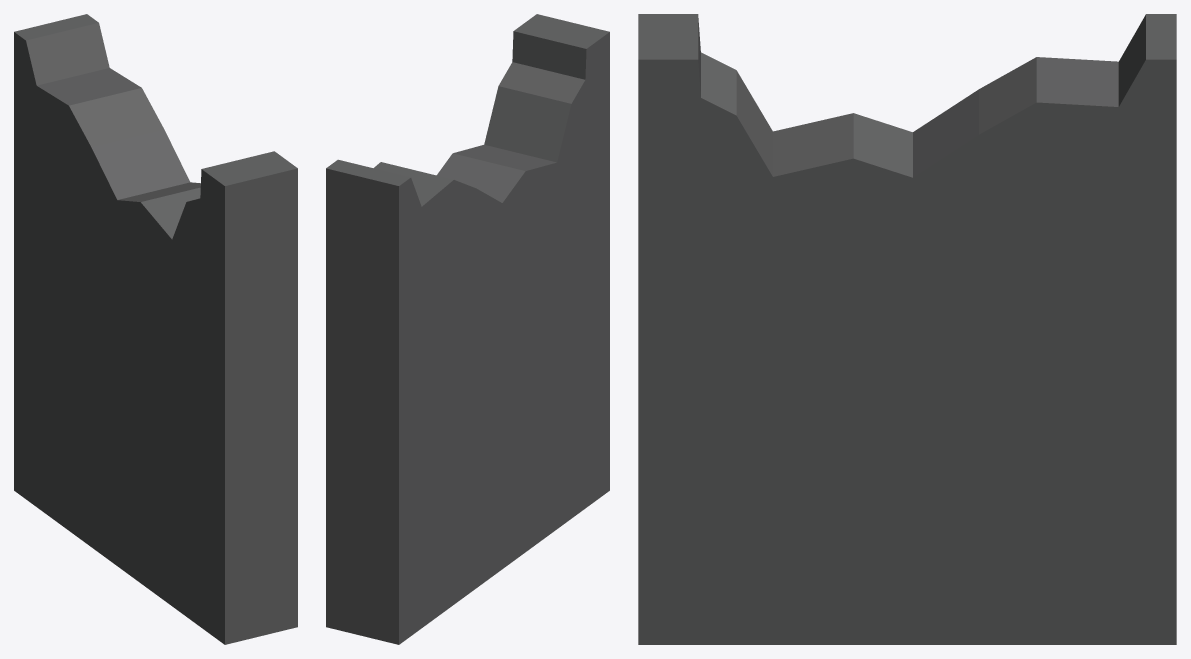
The model's file is Wall_B_2_1.obj.
The picture shows the model from 3 angles, left to right: view 1: azimuth 30°, elevation 25°; view 2: azimuth 150°, elevation 25°; view 3: azimuth 270°, elevation 25°; orthographic projection. The views are drawn at different scales.
Visible parts, largest first — view 1: Wall_B_2_1; view 2: Wall_B_2_1; view 3: Wall_B_2_1.
Part boxes in pixels (x1,y1,x2,y2): Wall_B_2_1: (14,14,297,644); Wall_B_2_1: (326,14,609,644); Wall_B_2_1: (638,14,1176,644).
Size of the model in its own units: 0.4 by 2.4 by 2.
